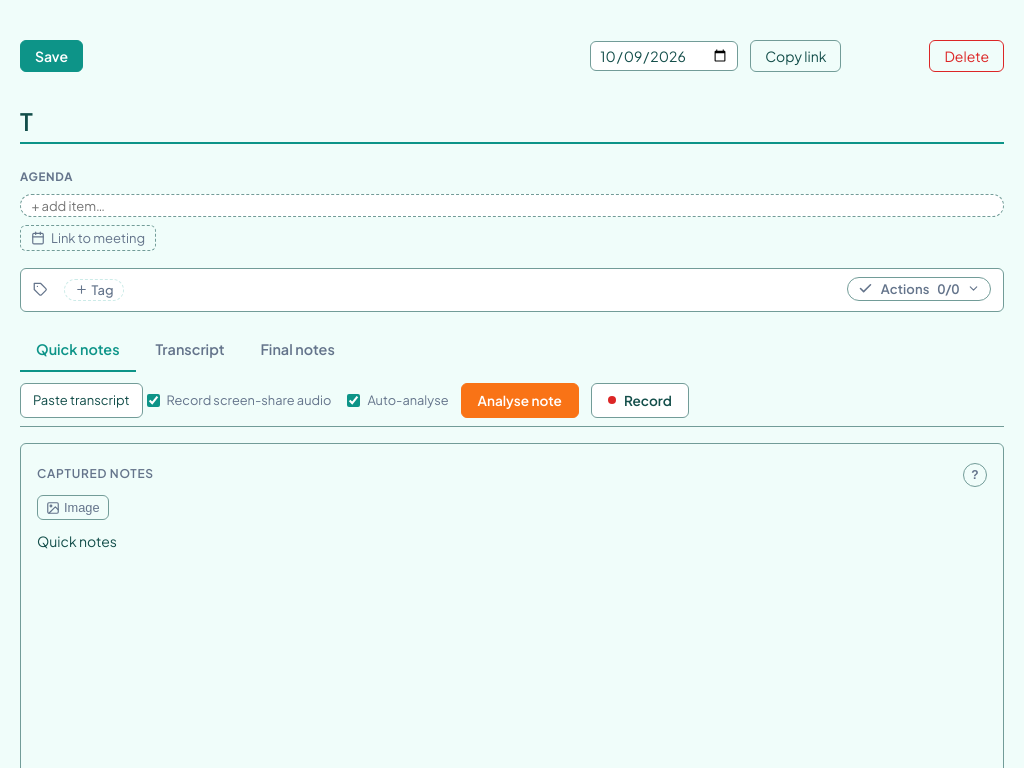
Test: NoteView › re-processing final notes › shows the regenerated summary after a successful re-process (latest wins)
expect the field named "Note content" is shown: met, box [37,532,117,550]
Click the tab with test id "note-tab-final".
click(298, 350)  # box [244,328,351,372]
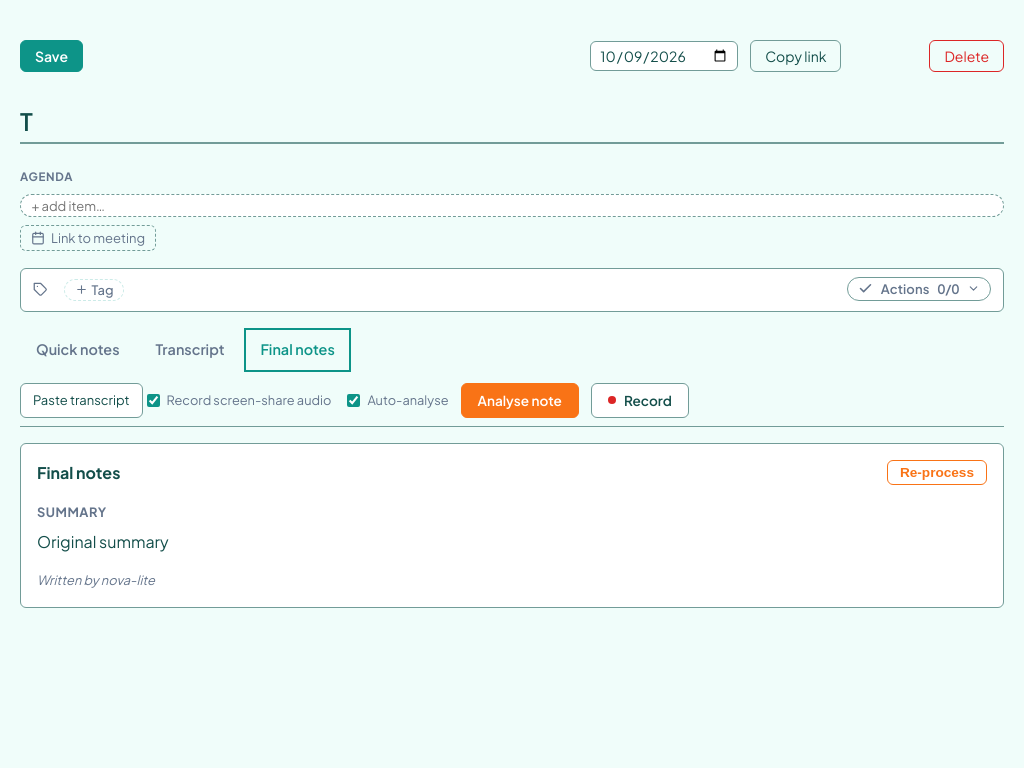
expect the text with test id "final-notes-summary" reads "Original summary": met, box [37,531,169,552]
Click the button with test id "reprocess-final-notes-button".
click(937, 473)  # box [887,460,987,486]
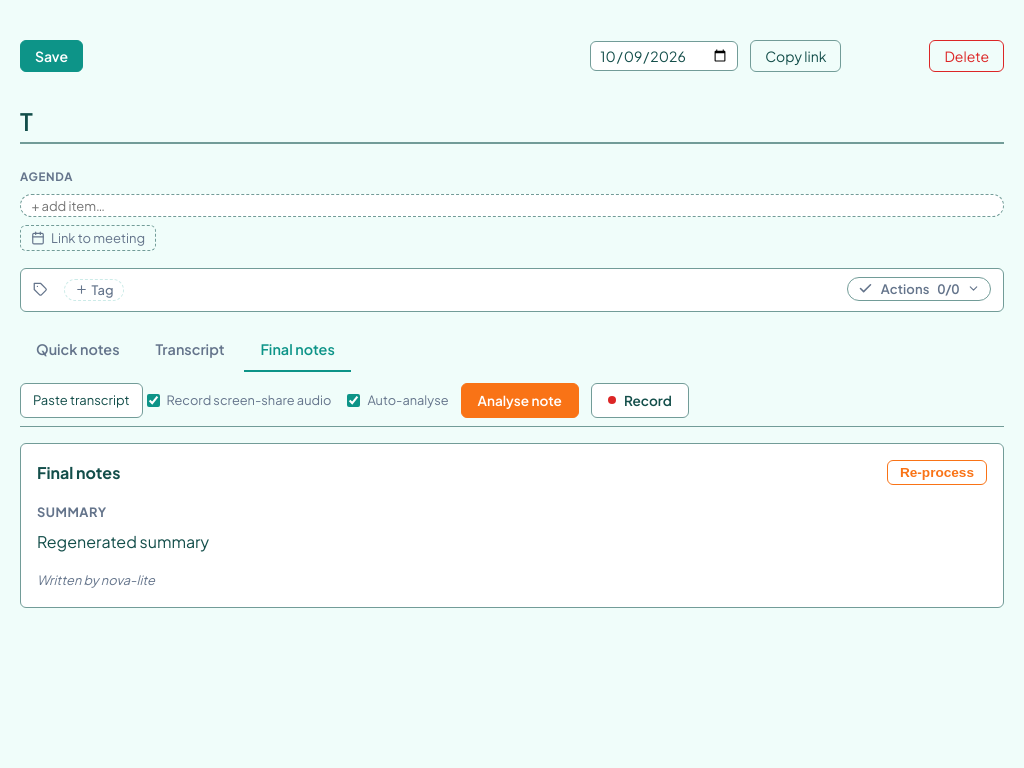
expect the text with test id "final-notes-summary" reads "Regenerated summary": met, box [37,531,209,552]
